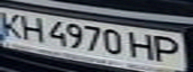0: (103, 26, 127, 56)
4: (42, 18, 69, 47)
7: (81, 24, 106, 54)
9: (63, 20, 84, 51)
H: (127, 29, 160, 62), (15, 14, 48, 43)
K: (0, 9, 27, 39)
P: (151, 34, 187, 64)
